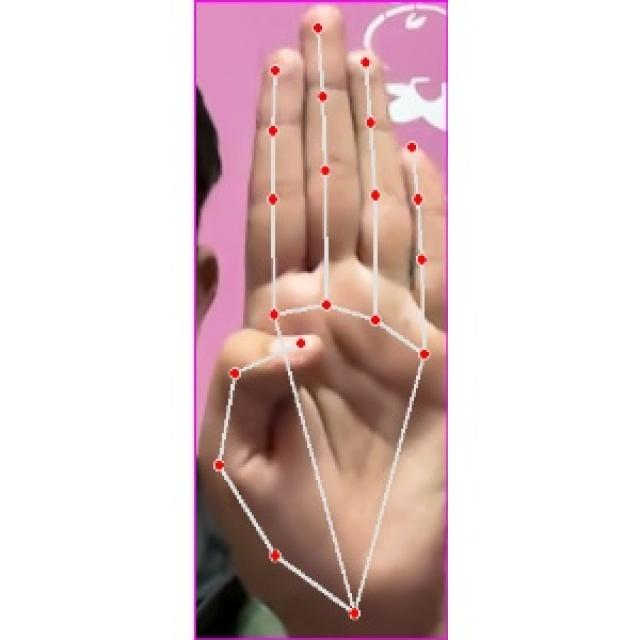B: (202, 5, 446, 638)
